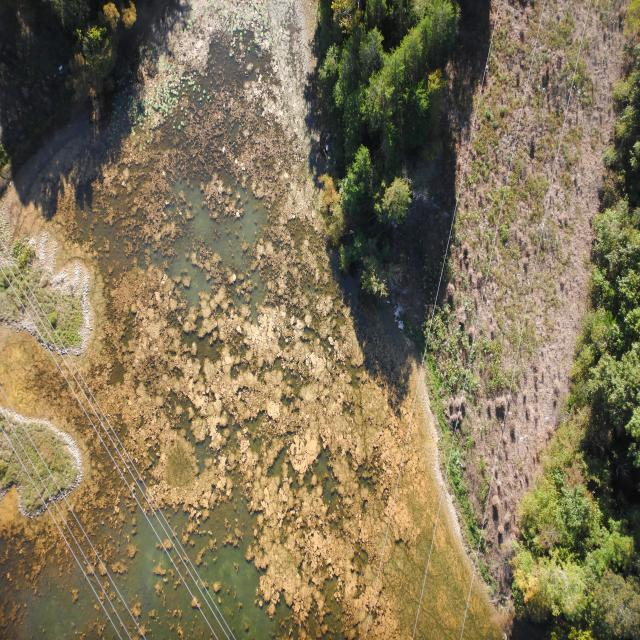Area of Interest: (514, 79, 633, 616), (330, 0, 461, 280)
